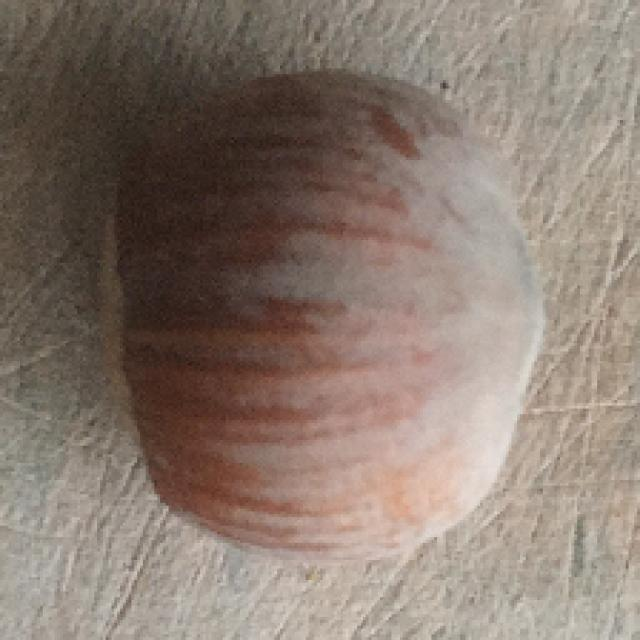qualityHazelnut: (98, 67, 549, 566)
